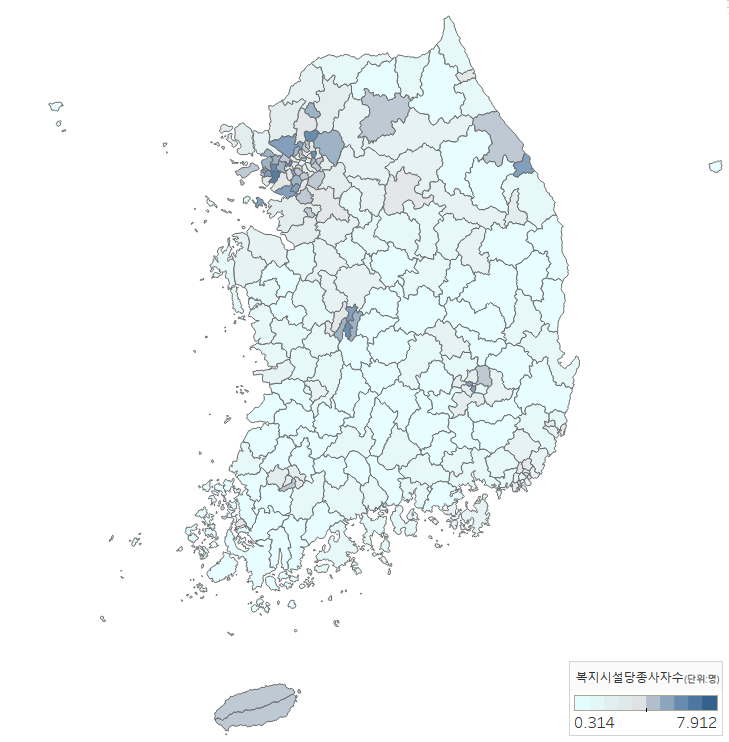

Layout of this report page (visuals, bound fields, positions):
{"tool":"tableau","page":{"name":"대시보드 1","canvas":[1000,800],"ordinal":0},"visuals":[{"type":"worksheet","title":"지도관련시트","mark":"Multipolygon","box":[8,8,824,784]},{"type":"legend","title":"지도관련시트","param":"[federated.0mkvijh18f0x9o1fqkpr3191tkia].[sum:Calculation_446137882942705665:qk]","box":[832,8,160,24]},{"type":"legend","title":"지도관련시트","param":"[federated.0mkvijh18f0x9o1fqkpr3191tkia].[sum:Calculation_446137882943660034:qk]","box":[832,32,160,24]},{"type":"legend","title":"지도관련시트","param":"[federated.0mkvijh18f0x9o1fqkpr3191tkia].[sum:Calculation_446137882959093767:qk]","box":[832,56,160,24]},{"type":"legend","title":"지도관련시트","param":"[federated.0mkvijh18f0x9o1fqkpr3191tkia].[sum:총복지시설:qk]","box":[832,80,160,24]}]}

Visuals, with their boxes on the page's 1000x800 design canvas (x1, y1, x2, y2). These are canvas units, not pixel positions in the 729x742 screenshot, which may show the page scaled, cropped or inside an application window:
"지도관련시트" worksheet (Multipolygon marks): (8,8,832,792)
"지도관련시트" legend: (832,8,992,32)
"지도관련시트" legend: (832,32,992,56)
"지도관련시트" legend: (832,56,992,80)
"지도관련시트" legend: (832,80,992,104)
